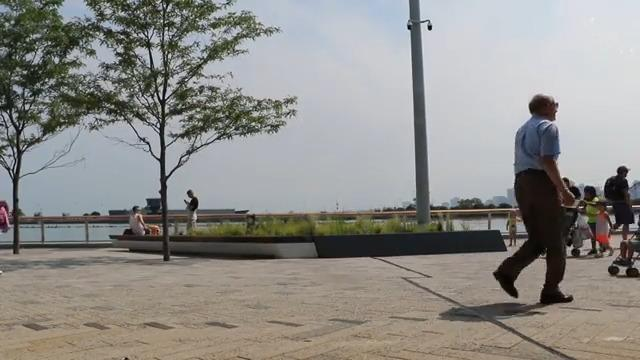no-helmet: (528, 94, 559, 123)
